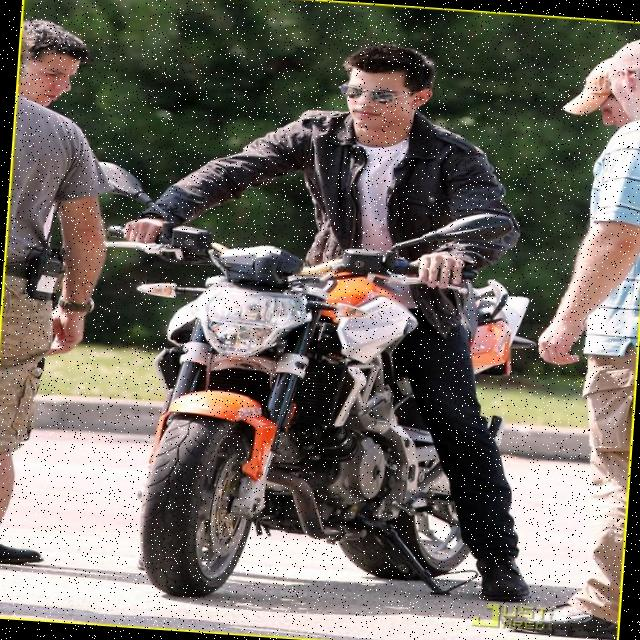No helmet: (326, 29, 448, 154)
